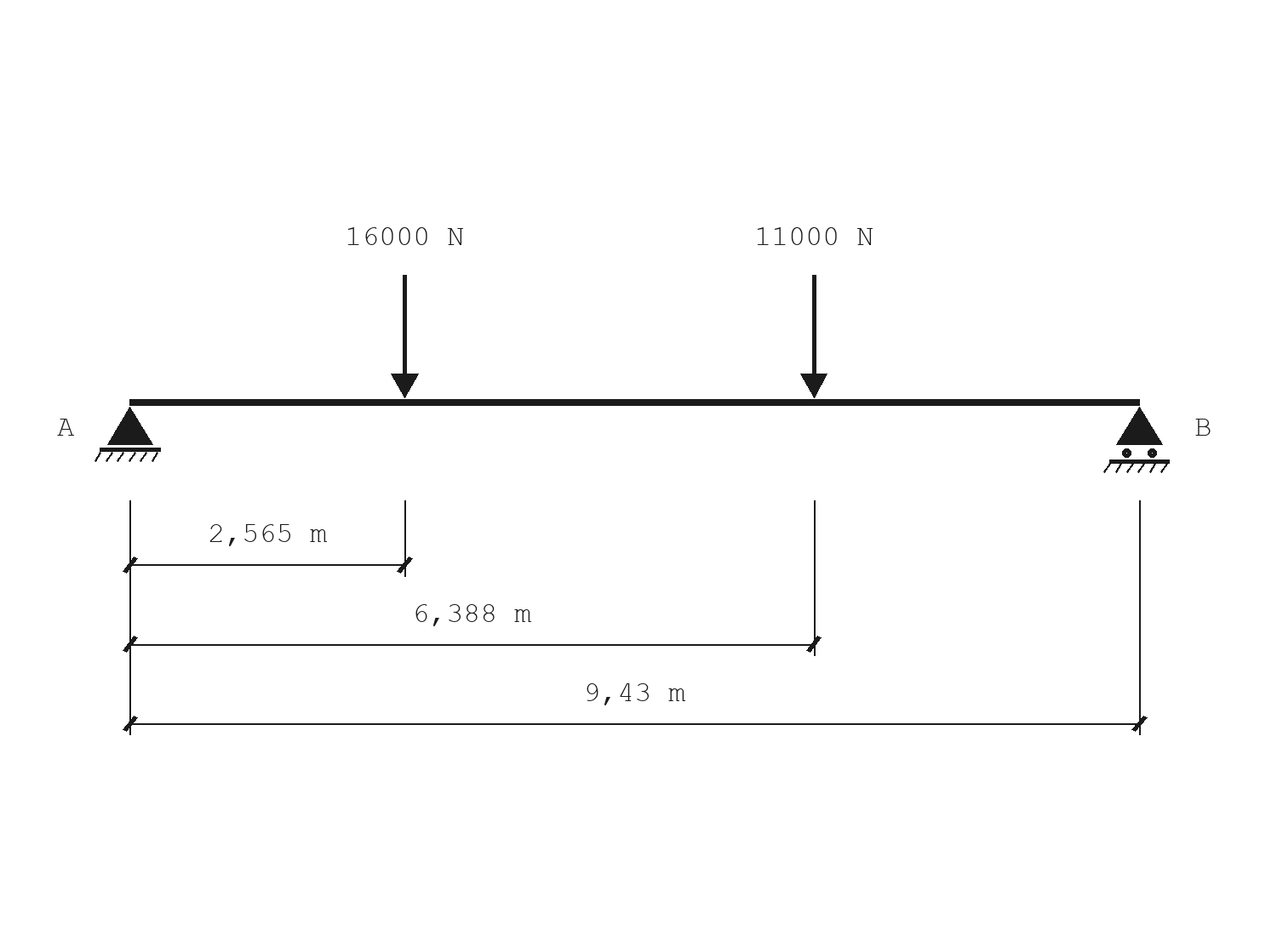pin_support: (94, 407, 161, 462)
point_load: (391, 275, 419, 398), (800, 275, 827, 398)
roller_support: (1103, 407, 1170, 473)
